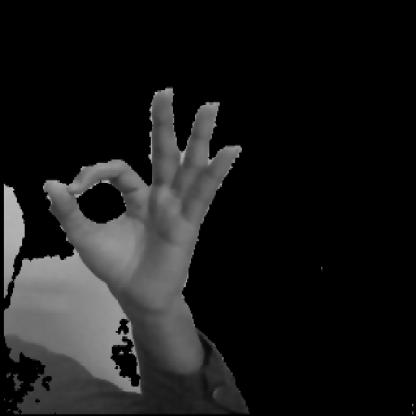ok: (26, 85, 289, 338)
